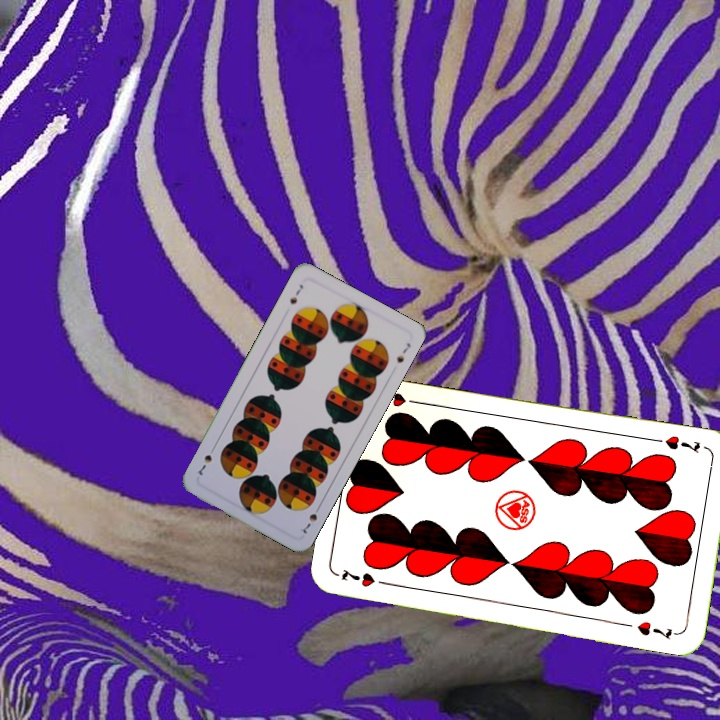H7: (649, 431, 703, 456), (337, 566, 393, 590)
S7: (297, 501, 324, 538), (285, 280, 306, 307)
